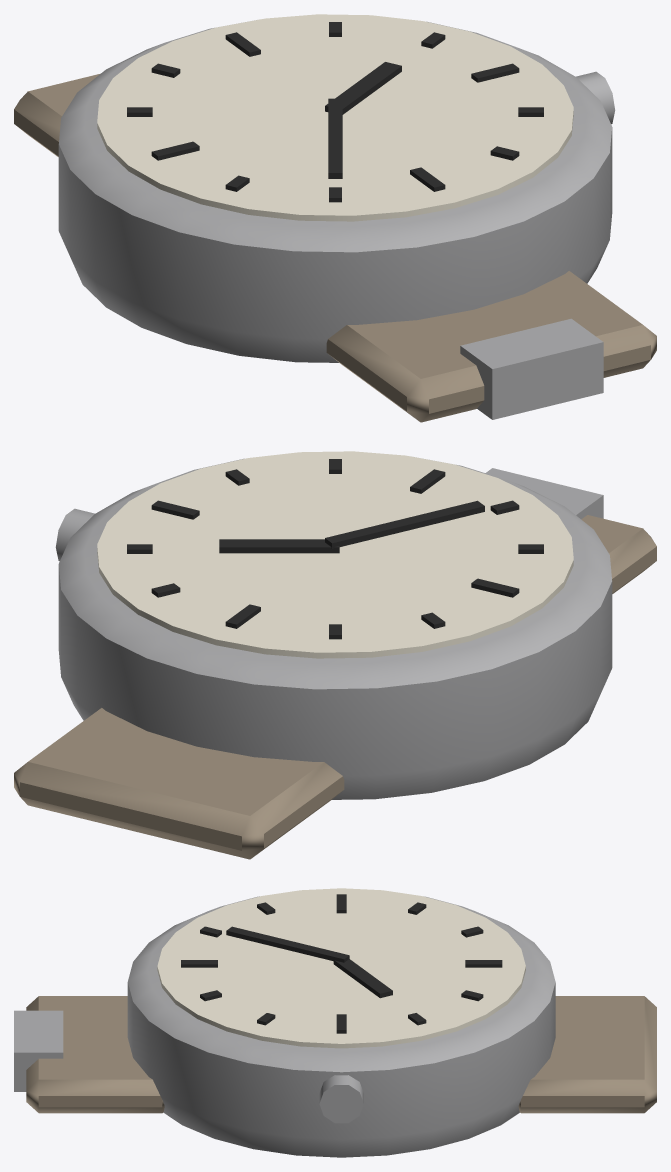
File: holm_watch.glb
3 views of the same model, one above another, from view 1: azimuth 30°, elevation 25°; view 2: azimuth 150°, elevation 25°; view 3: azimuth 270°, elevation 25° (orthographic). The views are drawn at different scales.
Parts seen in each view (by area): view 1: body; view 2: body; view 3: body.
Boxes of the visible parts, bbox=[...] form: body: bbox=[14, 14, 656, 422]; body: bbox=[14, 451, 656, 859]; body: bbox=[14, 888, 656, 1157].
Size of the model in its own units: 0.0364 by 0.0103 by 0.052.
